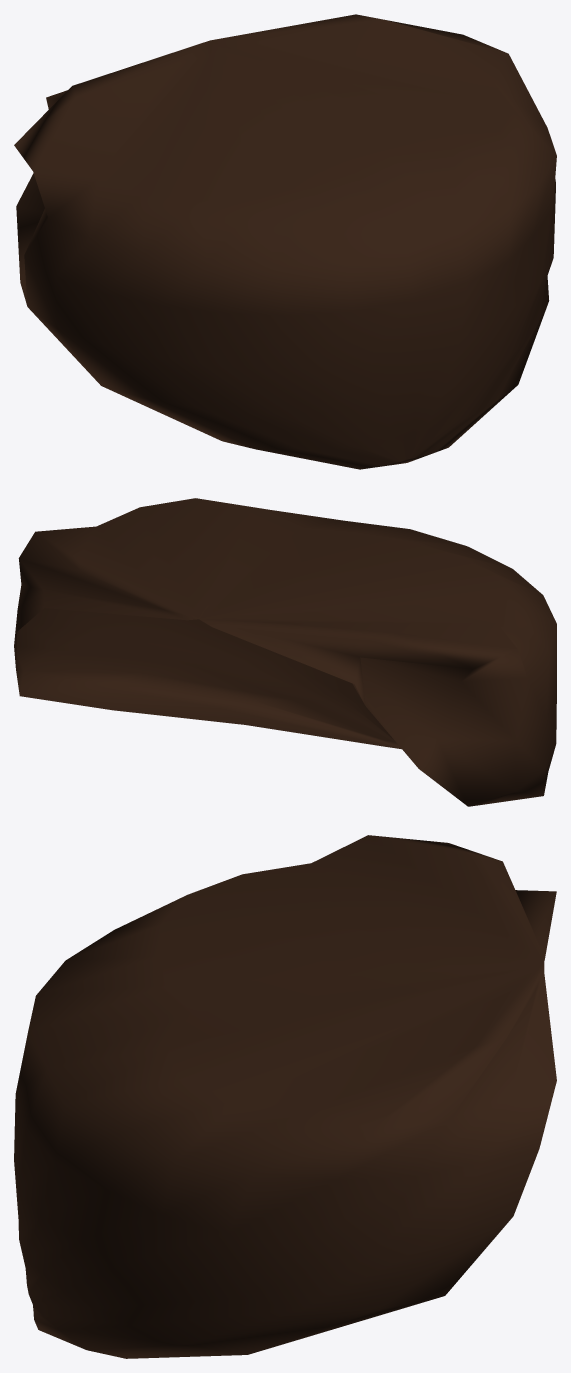
Rendered from abdomen_5_tergite.obj.
The picture shows the model from 3 angles, top to bottom: view 1: azimuth 30°, elevation 25°; view 2: azimuth 150°, elevation 25°; view 3: azimuth 270°, elevation 25°; orthographic projection. The views are drawn at different scales.
Size of the model in its own units: 0.0794 by 0.0434 by 0.0602.
